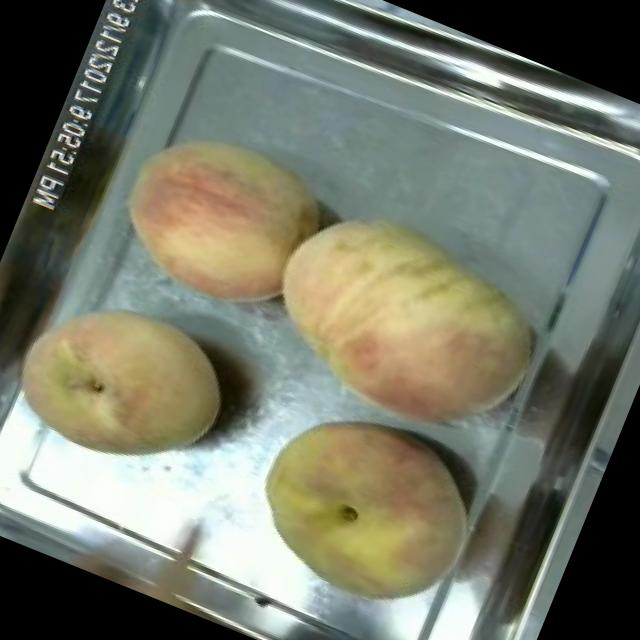Fruit: (234, 180, 565, 468), (225, 380, 501, 638), (88, 100, 345, 336), (0, 265, 253, 502)
